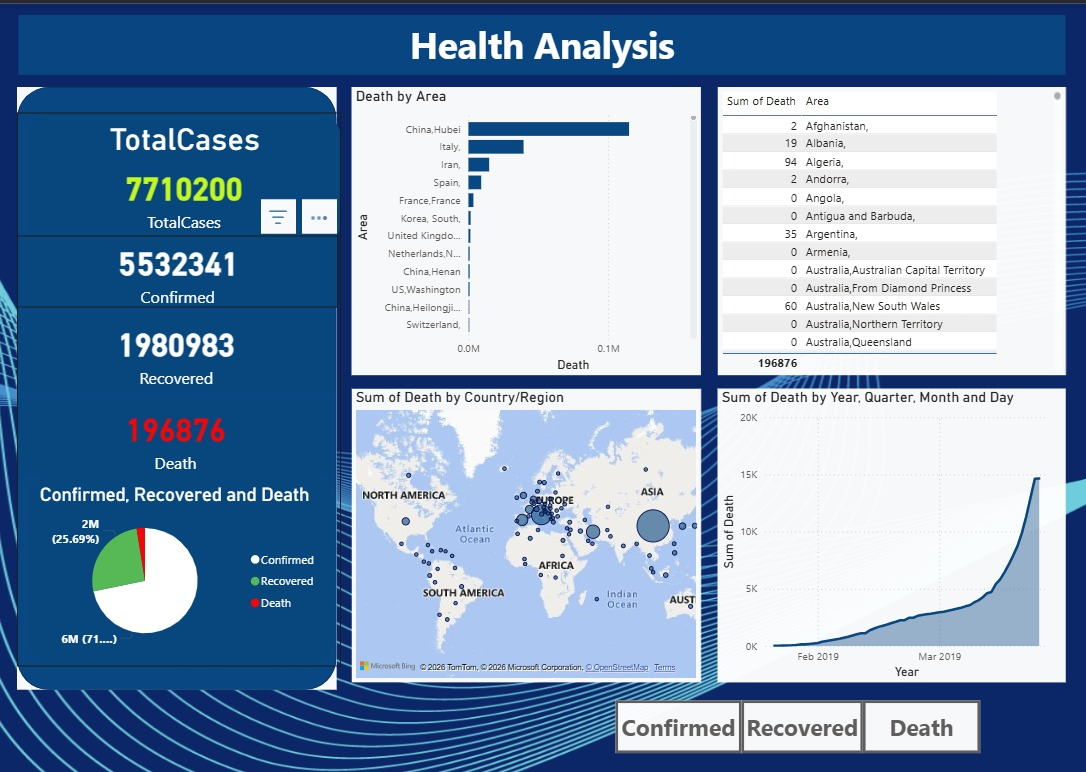

What the dashboard file says about the page in this screenshot:
{"tool":"powerbi","page":{"name":"Page 1","canvas":[1280,720],"ordinal":0},"visuals":[{"type":"barChart","fields":{"Y":["Sum(Sheet1 (3).Death)"],"Category":["Sheet1 (3).Area"]},"box":[470.8,78.3,337.5,262.9],"z":0},{"type":"card","title":"Total Cases","fields":{"Values":["Sheet1.Total_Cases"]},"box":[97.8,107.6,245.8,117.4],"z":0,"group":"g1"},{"type":"pivotTable","fields":{"Rows":["Sheet1 (3).Area"],"Values":["Sum(Sheet1 (3).Death)"]},"box":[831.5,78.3,384,262.9],"z":1000},{"type":"card","fields":{"Values":["Sum(Sheet1.Confirmed)"]},"box":[117.4,225,206.7,80.7],"z":1000,"group":"g1"},{"type":"card","fields":{"Values":["Sum(Sheet1 (2).Recovered)"]},"box":[134.5,304.5,173.6,72.1],"z":2000,"group":"g1"},{"type":"areaChart","fields":{"Y":["Sum(Sheet1 (3).Death)"],"Category":["Sheet1 (3).Date.Variation.Date Hierarchy.Year","Sheet1 (3).Date.Variation.Date Hierarchy.Quarter","Sheet1 (3).Date.Variation.Date Hierarchy.Month","Sheet1 (3).Date.Variation.Date Hierarchy.Day"]},"box":[831.5,359.5,384,253.1],"z":2000},{"type":"map","fields":{"Size":["Sum(Sheet1 (3).Death)"],"Category":["Sheet1 (3).Country/Region"]},"box":[470.8,359.5,337.5,253.1],"z":3000},{"type":"card","fields":{"Values":["Sum(Sheet1 (3).Death)"]},"box":[128.4,376.6,185.9,77],"z":3000,"group":"g1"},{"type":"textbox","box":[48.9,15.9,1153.1,47.7],"z":4000},{"type":"pieChart","fields":{"Y":["Sum(Sheet1.Confirmed)","Sum(Sheet1 (2).Recovered)","Sum(Sheet1 (3).Death)"]},"box":[81.9,453.7,303.3,185.9],"z":4000,"group":"g1"},{"type":"shape","box":[57.5,78.3,352.2,620],"z":5000},{"type":"group","id":"g1","title":"Group 1","box":[81.9,107.6,303.3,531.9],"z":6000}]}

Visuals, with their boxes on the page's 1280x720 design canvas (x1, y1, x2, y2). These are canvas units, not pixel positions in the 1086x772 screenshot, which may show the page scaled, cropped or inside an application window:
barChart - Sum(Sheet1 (3).Death) x Sheet1 (3).Area: crop(471, 78, 808, 341)
"Total Cases" card: crop(98, 108, 344, 225)
pivotTable - Sheet1 (3).Area x Sum(Sheet1 (3).Death): crop(832, 78, 1216, 341)
card - Sum(Sheet1.Confirmed): crop(117, 225, 324, 306)
card - Sum(Sheet1 (2).Recovered): crop(134, 304, 308, 377)
areaChart - Sum(Sheet1 (3).Death) x Sheet1 (3).Date.Variation.Date Hierarchy.Year: crop(832, 360, 1216, 613)
map - Sum(Sheet1 (3).Death) x Sheet1 (3).Country/Region: crop(471, 360, 808, 613)
card - Sum(Sheet1 (3).Death): crop(128, 377, 314, 454)
textbox: crop(49, 16, 1202, 64)
pieChart - Sum(Sheet1.Confirmed) x Sum(Sheet1 (2).Recovered): crop(82, 454, 385, 640)
shape: crop(58, 78, 410, 698)
"Group 1" group: crop(82, 108, 385, 640)
